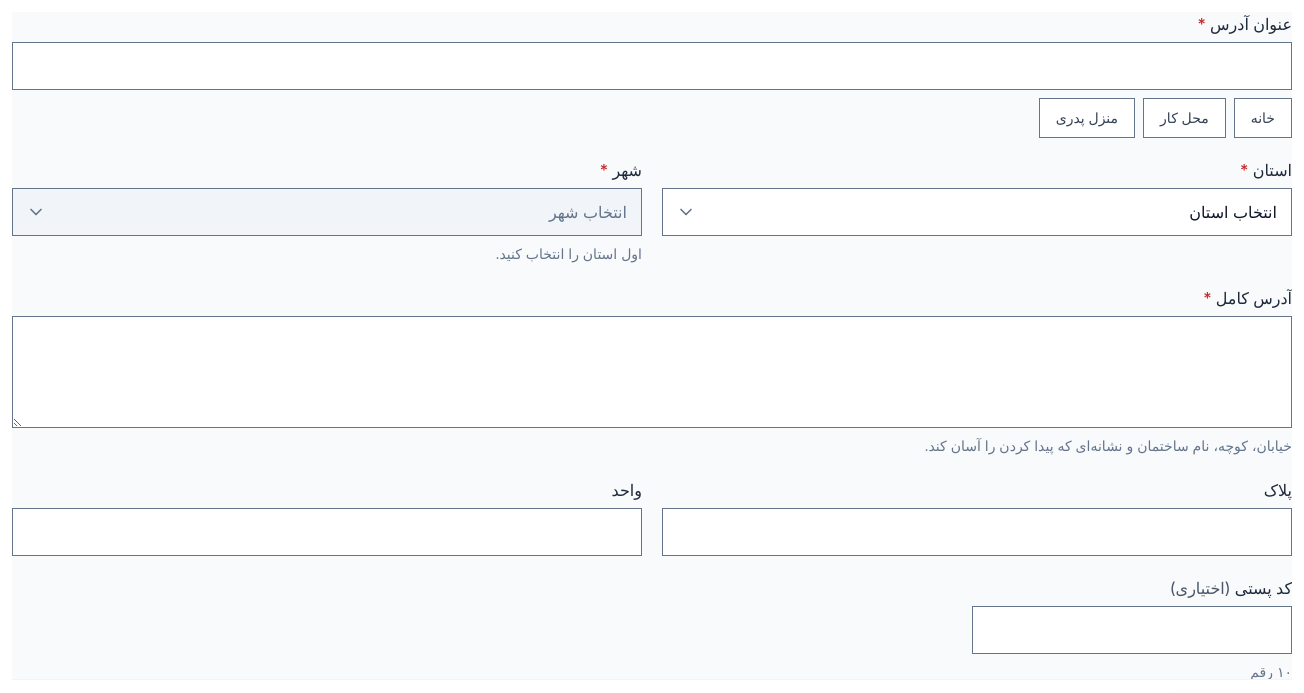
it: AddressForm: a new address › clears the city when the province changes
Later steps or results of the test are not shown.
Select "تهران" in the dropdown labelled "استان *" at (977, 212), box [662,188,1292,236]
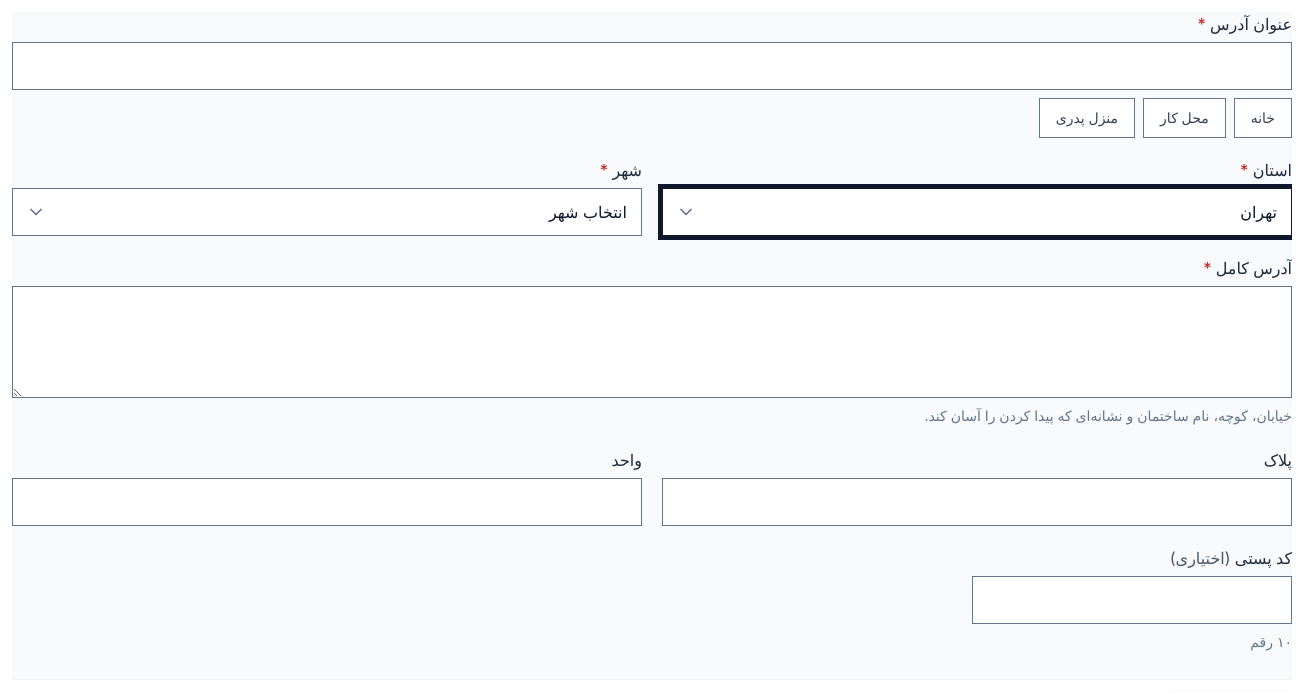
Expected: the dropdown labelled "شهر *" is enabled, [12,188,642,236]
